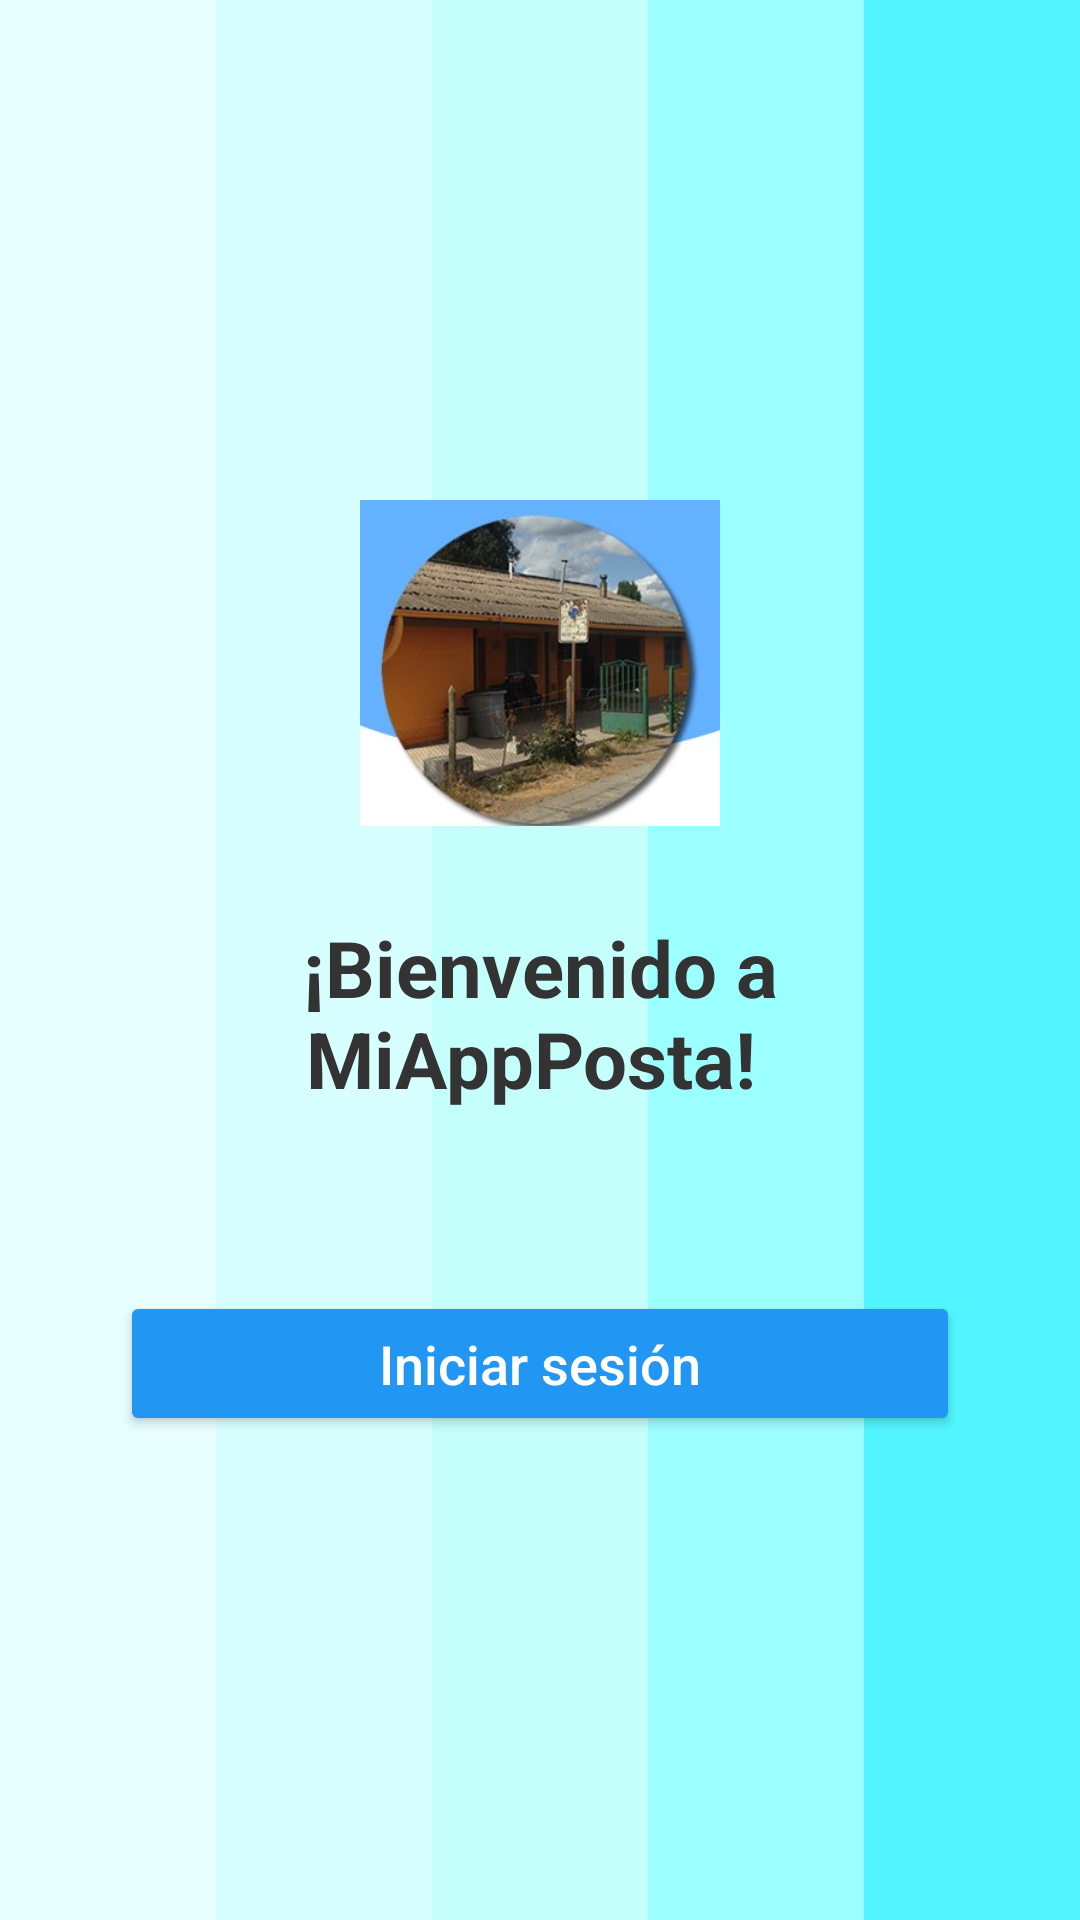

Icons on this 1080px×1920px Android screen, each with the point to tap as (x=x, y=y):
Icono de posta médica: (x=540, y=663)
